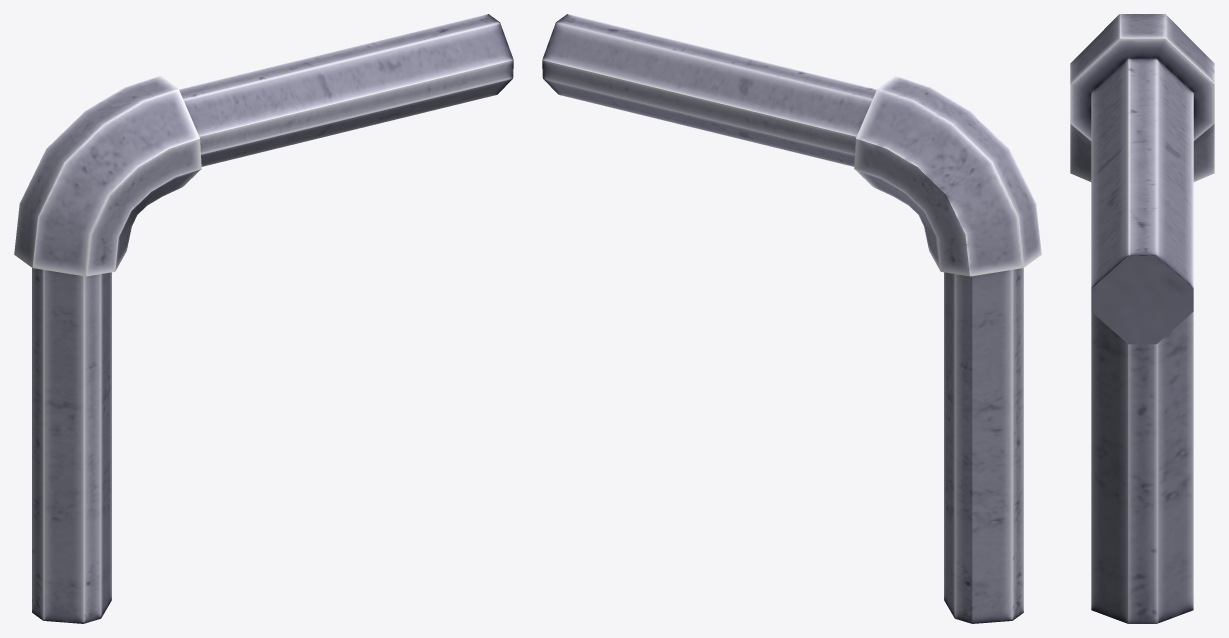
File: GateFrame_Square.obj
3 renders of one model, left to right at view 1: azimuth 30°, elevation 25°; view 2: azimuth 150°, elevation 25°; view 3: azimuth 270°, elevation 25°, orthographic. The views are drawn at different scales.
Visible parts, largest first — view 1: GateFrame_Square; view 2: GateFrame_Square; view 3: GateFrame_Square.
Part boxes in pixels (x1,y1,x2,y2): GateFrame_Square: (14,14,513,623); GateFrame_Square: (542,14,1041,623); GateFrame_Square: (1070,14,1214,623).
Size of the model in its own units: 1.84 by 1.88 by 0.3898.
1 material, 1 textured.
